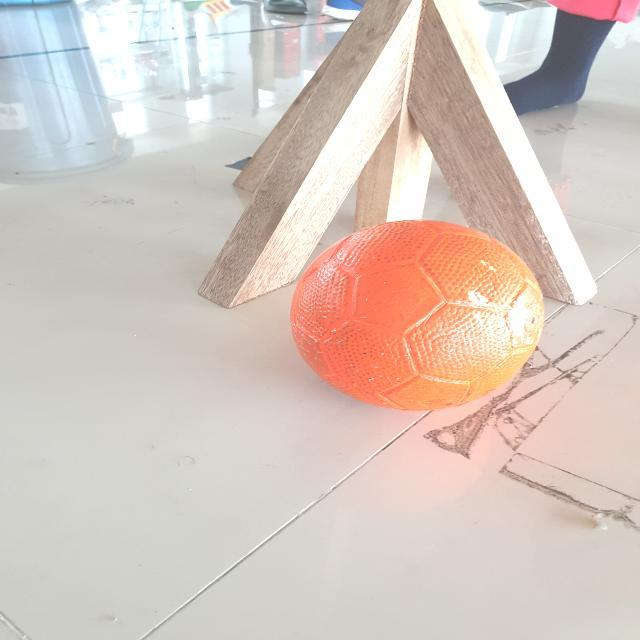bola: (282, 212, 551, 416)
